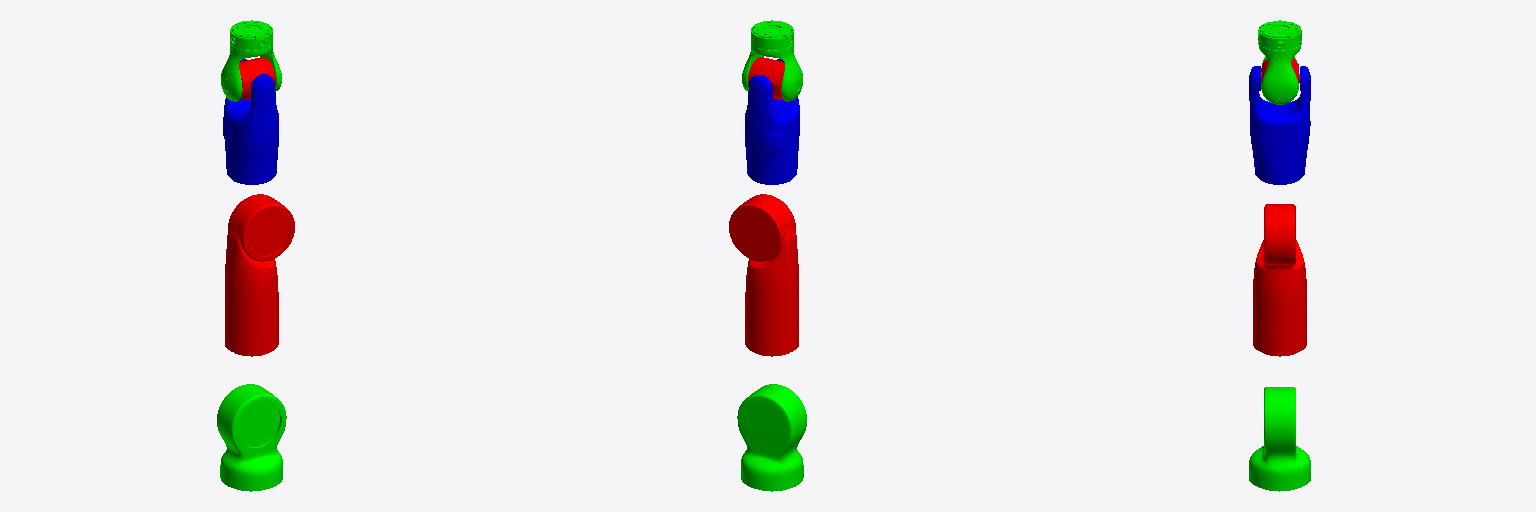
robot.urdf — Marvin M6S-Lite-L-CCS-680-V1.0 urdf:
<?xml version="1.0" encoding="utf-8"?>
<!-- This URDF was automatically created by SolidWorks to URDF Exporter! Originally created by Stephen Brawner (brawner@gmail.com) 
     Commit Version: 1.5.1-0-g916b5db  Build Version: 1.5.7152.31018
     For more information, please see http://wiki.ros.org/sw_urdf_exporter -->
<robot
  name="Marvin M6S-Lite-L-CCS-680-V1.0 urdf">
  <link
    name="Base_L">
    <inertial>
      <origin
        xyz="1.1648e-04 -9.321e-05 3.390668e-02"
        rpy="0 0 0" />
      <mass
        value="0.8553322" />
      <inertia
        ixx="6.5490e-04"
        ixy="-1.5e-07"
        ixz="7.70e-06"
        iyy="6.6931e-04"
        iyz="2.01e-06"
        izz="8.0985e-04" />
    </inertial>
    <visual>
      <origin
        xyz="0 0 0"
        rpy="0 0 0" />
      <geometry>
        <mesh
          filename="package://Marvin M6S-Lite-L-CCS-680-V1.0 urdf/meshes/Base_L.STL" />
      </geometry>
      <material
        name="">
        <color
          rgba="1 0 0 1" />
      </material>
    </visual>
    <collision>
      <origin
        xyz="0 0 0"
        rpy="0 0 0" />
      <geometry>
        <mesh
          filename="package://Marvin M6S-Lite-L-CCS-680-V1.0 urdf/meshes/Base_L.STL" />
      </geometry>
    </collision>
  </link>
  <link
    name="Link1_L">
    <inertial>
      <origin
        xyz="-3.3175e-04 -4.26687e-03 -3.522466e-02"
        rpy="0 0 0" />
      <mass
        value="1.537551" />
      <inertia
        ixx="3.66914e-03"
        ixy="1.77e-06"
        ixz="1.342e-05"
        iyy="3.94529e-03"
        iyz="-2.3437e-04"
        izz="1.31774e-03" />
    </inertial>
    <visual>
      <origin
        xyz="0 0 0"
        rpy="0 0 0" />
      <geometry>
        <mesh
          filename="package://Marvin M6S-Lite-L-CCS-680-V1.0 urdf/meshes/Link1_L.STL" />
      </geometry>
      <material
        name="">
        <color
          rgba="0 1 0 1" />
      </material>
    </visual>
    <collision>
      <origin
        xyz="0 0 0"
        rpy="0 0 0" />
      <geometry>
        <mesh
          filename="package://Marvin M6S-Lite-L-CCS-680-V1.0 urdf/meshes/Link1_L.STL" />
      </geometry>
    </collision>
  </link>
  <joint
    name="Joint1_L"
    type="revolute">
    <origin
      xyz="0 0 0.1586"
      rpy="0 0 0" />
    <parent
      link="Base_L" />
    <child
      link="Link1_L" />
    <axis
      xyz="0 0 1" />
    <limit
      lower="-3.0194"
      upper="3.0194"
      effort="35"
      velocity="3.1416" />
  </joint>
  <link
    name="Link2_L">
    <inertial>
      <origin
        xyz="2.044e-05 0.0535881 -0.00881535"
        rpy="0 0 0" />
      <mass
        value="1.58697" />
      <inertia
        ixx="0.00651482"
        ixy="8.49e-06"
        ixz="1.19e-06"
        iyy="0.0018653"
        iyz="0.00075929"
        izz="0.00613149" />
    </inertial>
    <visual>
      <origin
        xyz="0 0 0"
        rpy="0 0 0" />
      <geometry>
        <mesh
          filename="package://Marvin M6S-Lite-L-CCS-680-V1.0 urdf/meshes/Link2_L.STL" />
      </geometry>
      <material
        name="">
        <color
          rgba="0 0 1 1" />
      </material>
    </visual>
    <collision>
      <origin
        xyz="0 0 0"
        rpy="0 0 0" />
      <geometry>
        <mesh
          filename="package://Marvin M6S-Lite-L-CCS-680-V1.0 urdf/meshes/Link2_L.STL" />
      </geometry>
    </collision>
  </link>
  <joint
    name="Joint2_L"
    type="revolute">
    <origin
      xyz="0 0 0"
      rpy="1.5708 0 0" />
    <parent
      link="Link1_L" />
    <child
      link="Link2_L" />
    <axis
      xyz="0 0 1" />
    <limit
      lower="-2.0595"
      upper="2.0595"
      effort="35"
      velocity="3.1416" />
  </joint>
  <link
    name="Link3_L">
    <inertial>
      <origin
        xyz="0.00782627 -0.00511917 -0.07354675"
        rpy="0 0 0" />
      <mass
        value="1.66375928" />
      <inertia
        ixx="0.01097251"
        ixy="-0.00007013"
        ixz="0.00099536"
        iyy="0.01136075"
        iyz="-0.00049180"
        izz="0.00157281" />
    </inertial>
    <visual>
      <origin
        xyz="0 0 0"
        rpy="0 0 0" />
      <geometry>
        <mesh
          filename="package://Marvin M6S-Lite-L-CCS-680-V1.0 urdf/meshes/Link3_L.STL" />
      </geometry>
      <material
        name="">
        <color
          rgba="1 0 0 1" />
      </material>
    </visual>
    <collision>
      <origin
        xyz="0 0 0"
        rpy="0 0 0" />
      <geometry>
        <mesh
          filename="package://Marvin M6S-Lite-L-CCS-680-V1.0 urdf/meshes/Link3_L.STL" />
      </geometry>
    </collision>
  </link>
  <joint
    name="Joint3_L"
    type="revolute">
    <origin
      xyz="0 0.329 0"
      rpy="-1.5708 0 0" />
    <parent
      link="Link2_L" />
    <child
      link="Link3_L" />
    <axis
      xyz="0 0 1" />
    <limit
      lower="-3.0194"
      upper="3.0194"
      effort="18"
      velocity="3.1416" />
  </joint>
  <link
    name="Link4_L">
    <inertial>
      <origin
        xyz="0.00840183 -0.038565 -0.0073627"
        rpy="0 0 0" />
      <mass
        value="1.03775" />
      <inertia
        ixx="0.00308966"
        ixy="-0.00038612"
        ixz="7.072e-05"
        iyy="0.00119659"
        iyz="-0.00032564"
        izz="0.0029308" />
    </inertial>
    <visual>
      <origin
        xyz="0 0 0"
        rpy="0 0 0" />
      <geometry>
        <mesh
          filename="package://Marvin M6S-Lite-L-CCS-680-V1.0 urdf/meshes/Link4_L.STL" />
      </geometry>
      <material
        name="">
        <color
          rgba="0 1 0 1" />
      </material>
    </visual>
    <collision>
      <origin
        xyz="0 0 0"
        rpy="0 0 0" />
      <geometry>
        <mesh
          filename="package://Marvin M6S-Lite-L-CCS-680-V1.0 urdf/meshes/Link4_L.STL" />
      </geometry>
    </collision>
  </link>
  <joint
    name="Joint4_L"
    type="revolute">
    <origin
      xyz="0.018 0 0"
      rpy="-1.5708 0 3.1416" />
    <parent
      link="Link3_L" />
    <child
      link="Link4_L" />
    <axis
      xyz="0 0 1" />
    <limit
      lower="-2.5307"
      upper="0.7854"
      effort="18"
      velocity="3.1416" />
  </joint>
  <link
    name="Link5_L">
    <inertial>
      <origin
        xyz="-5.008e-04 2.23923e-03 -9.253416e-02"
        rpy="0 0 0" />
      <mass
        value="1.000479" />
      <inertia
        ixx="2.17057e-03"
        ixy="-1.142e-05"
        ixz="-6.68e-06"
        iyy="1.95131e-03"
        iyz="3.059e-05"
        izz="8.4222e-04" />
    </inertial>
    <visual>
      <origin
        xyz="0 0 0"
        rpy="0 0 0" />
      <geometry>
        <mesh
          filename="package://Marvin M6S-Lite-L-CCS-680-V1.0 urdf/meshes/Link5_L.STL" />
      </geometry>
      <material
        name="">
        <color
          rgba="0 0 1 1" />
      </material>
    </visual>
    <collision>
      <origin
        xyz="0 0 0"
        rpy="0 0 0" />
      <geometry>
        <mesh
          filename="package://Marvin M6S-Lite-L-CCS-680-V1.0 urdf/meshes/Link5_L.STL" />
      </geometry>
    </collision>
  </link>
  <joint
    name="Joint5_L"
    type="revolute">
    <origin
      xyz="0.018 -0.264 0"
      rpy="-1.5708 0 3.1416" />
    <parent
      link="Link4_L" />
    <child
      link="Link5_L" />
    <axis
      xyz="0 0 1" />
    <limit
      lower="-3.0194"
      upper="3.0194"
      effort="5.5"
      velocity="3.1416" />
  </joint>
  <link
    name="Link6_L">
    <inertial>
      <origin
        xyz="1.8634e-04 2.3824e-04 -5.829e-04"
        rpy="0 0 0" />
      <mass
        value="0.3906229" />
      <inertia
        ixx="1.9943e-04"
        ixy="1.1800e-06"
        ixz="-3.0000e-07"
        iyy="1.7163e-04"
        iyz="-3.5300e-06"
        izz="1.8567e-04" />
    </inertial>
    <visual>
      <origin
        xyz="0 0 0"
        rpy="0 0 0" />
      <geometry>
        <mesh
          filename="package://Marvin M6S-Lite-L-CCS-680-V1.0 urdf/meshes/Link6_L.STL" />
      </geometry>
      <material
        name="">
        <color
          rgba="1 0 0 1" />
      </material>
    </visual>
    <collision>
      <origin
        xyz="0 0 0"
        rpy="0 0 0" />
      <geometry>
        <mesh
          filename="package://Marvin M6S-Lite-L-CCS-680-V1.0 urdf/meshes/Link6_L.STL" />
      </geometry>
    </collision>
  </link>
  <joint
    name="Joint6_L"
    type="revolute">
    <origin
      xyz="0 0 0"
      rpy="1.5708 -1.5708 0" />
    <parent
      link="Link5_L" />
    <child
      link="Link6_L" />
    <axis
      xyz="0 0 1" />
    <limit
      lower="-1.0472"
      upper="1.0472"
      effort="5.5"
      velocity="3.1416" />
  </joint>
  <link
    name="Link7_L">
    <inertial>
      <origin
        xyz="-5.2431e-04 -3.976234e-02 7.27342e-03"
        rpy="0 0 0" />
      <mass
        value="0.37939" />
      <inertia
        ixx="7.0308e-04"
        ixy="5.97e-06"
        ixz="7.30e-07"
        iyy="3.0365e-04"
        iyz="1.2769e-04"
        izz="5.8833e-04" />
    </inertial>
    <visual>
      <origin
        xyz="0 0 0"
        rpy="0 0 0" />
      <geometry>
        <mesh
          filename="package://Marvin M6S-Lite-L-CCS-680-V1.0 urdf/meshes/Link7_L.STL" />
      </geometry>
      <material
        name="">
        <color
          rgba="0 1 0 1" />
      </material>
    </visual>
    <collision>
      <origin
        xyz="0 0 0"
        rpy="0 0 0" />
      <geometry>
        <mesh
          filename="package://Marvin M6S-Lite-L-CCS-680-V1.0 urdf/meshes/Link7_L.STL" />
      </geometry>
    </collision>
  </link>
  <joint
    name="Joint7_L"
    type="revolute">
    <origin
      xyz="0 0 0"
      rpy="1.5708 -1.5708 0" />
    <parent
      link="Link6_L" />
    <child
      link="Link7_L" />
    <axis
      xyz="0 0 1" />
    <limit
      lower="-1.5708"
      upper="1.5708"
      effort="5.5"
      velocity="3.1416" />
  </joint>
  <link
    name="TCP_Link_L">
    <inertial>
      <origin
        xyz="0 0 0"
        rpy="0 0 0" />
      <mass
        value="0" />
      <inertia
        ixx="0"
        ixy="0"
        ixz="0"
        iyy="0"
        iyz="0"
        izz="0" />
    </inertial>
    <visual>
      <origin
        xyz="0 0 0"
        rpy="0 0 0" />
      <geometry>
        <mesh
          filename="package://Marvin M6S-Lite-L-CCS-680-V1.0 urdf/meshes/TCP_Link_L.STL" />
      </geometry>
      <material
        name="">
        <color
          rgba="1 1 1 1" />
      </material>
    </visual>
    <collision>
      <origin
        xyz="0 0 0"
        rpy="0 0 0" />
      <geometry>
        <mesh
          filename="package://Marvin M6S-Lite-L-CCS-680-V1.0 urdf/meshes/TCP_Link_L.STL" />
      </geometry>
    </collision>
  </link>
  <joint
    name="JointTCP_L"
    type="fixed">
    <origin
      xyz="0 -0.087 0"
      rpy="1.5708 -1.5708 0" />
    <parent
      link="Link7_L" />
    <child
      link="TCP_Link_L" />
    <axis
      xyz="0 0 0" />
  </joint>
</robot>

--- Facts derived from the render (not from the file) ---
3 views of the same robot in one strip: view 1: azimuth 30°, elevation 25°; view 2: azimuth 150°, elevation 25°; view 3: azimuth 270°, elevation 25° (orthographic).
Robot: Marvin M6S-Lite-L-CCS-680-V1.0 urdf — 9 links, 8 joints (7 revolute, 1 fixed); root link Base_L; default pose: all joints at 0.
Visible links, largest first — view 1: Link3_L, Link1_L, Link5_L, Link7_L, Link6_L; view 2: Link3_L, Link1_L, Link5_L, Link7_L, Link6_L; view 3: Link3_L, Link5_L, Link1_L, Link7_L.
Link boxes in pixels (box(x1,y1,x2,y2)): Link3_L: box(225, 194, 294, 356); Link1_L: box(217, 384, 286, 491); Link5_L: box(223, 59, 278, 184); Link7_L: box(221, 20, 281, 101); Link6_L: box(239, 57, 275, 100); Link3_L: box(729, 194, 798, 356); Link1_L: box(737, 384, 806, 491); Link5_L: box(745, 59, 799, 184); Link7_L: box(742, 20, 802, 101); Link6_L: box(748, 57, 784, 100); Link3_L: box(1253, 204, 1306, 356); Link5_L: box(1249, 66, 1310, 184); Link1_L: box(1249, 387, 1310, 491); Link7_L: box(1258, 20, 1301, 104).
Size in the robot's own frame: 0.1178 by 0.0988 by 0.788 metres.
Meshes: 9 distinct files referenced, 5 mesh visuals loaded (5 binary STL); not drawn: 4 (reference not matched to a file when rendering).
